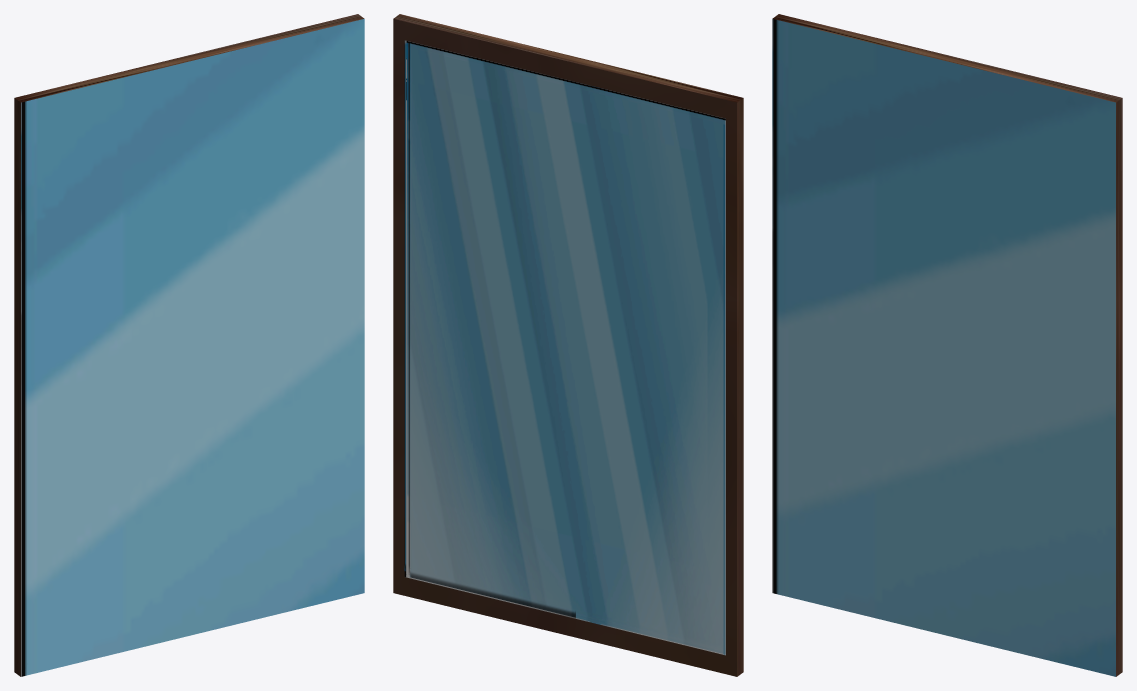
File: Espejo.obj
3 renders of one model, left to right at view 1: azimuth 30°, elevation 25°; view 2: azimuth 150°, elevation 25°; view 3: azimuth 330°, elevation 25°, orthographic.
Parts seen in each view (by area): view 1: Espejo_Cube.011_Vidrio, Espejo_Cube.011_Madera_obscura; view 2: Espejo_Cube.011_Vidrio, Espejo_Cube.011_Madera_obscura; view 3: Espejo_Cube.011_Vidrio, Espejo_Cube.011_Madera_obscura.
Boxes of the visible parts, x1,y1,x2,y2 form: Espejo_Cube.011_Vidrio: (21,19,364,676); Espejo_Cube.011_Madera_obscura: (14,14,364,676); Espejo_Cube.011_Vidrio: (404,40,725,655); Espejo_Cube.011_Madera_obscura: (393,14,743,676); Espejo_Cube.011_Vidrio: (772,19,1115,676); Espejo_Cube.011_Madera_obscura: (772,14,1122,676).
Size of the model in its own units: 0.9044 by 1.44 by 0.0296.
